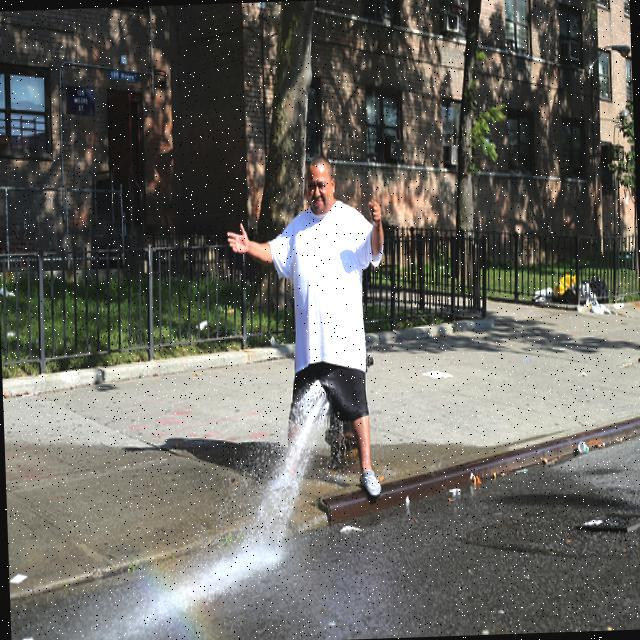fire_hydrant: (326, 352, 376, 466)
